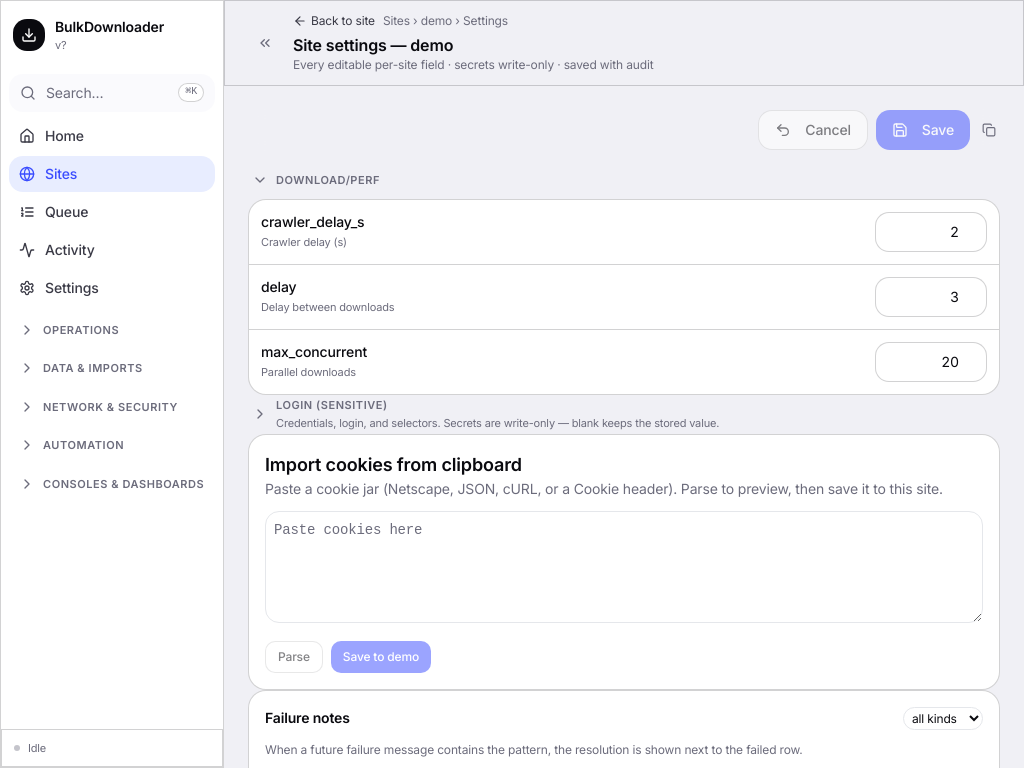
Test case: SiteSettings keeps edits typed during a save (dsf F3) › an edit made while the PUT is in flight survives the save
Replace the text in the number field showing "3" in the row of "Delay between downloads" with "5" at (931, 296), box [875,276,987,316]
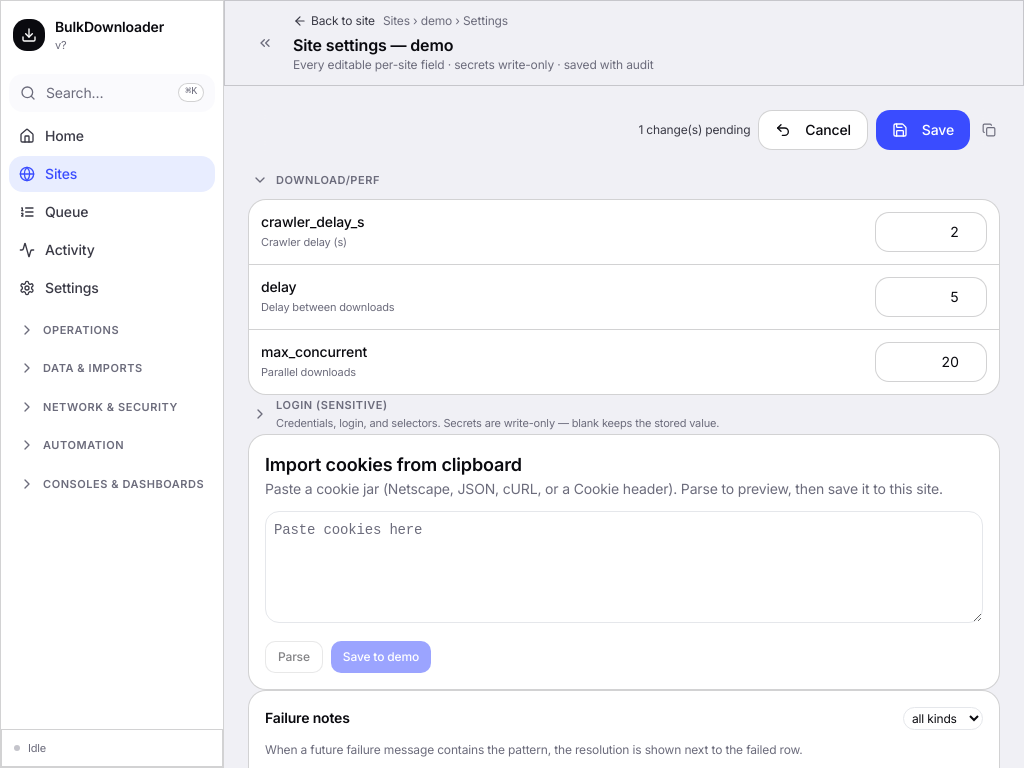
Click the button "Save".
click(923, 130)  # box [876,110,970,150]
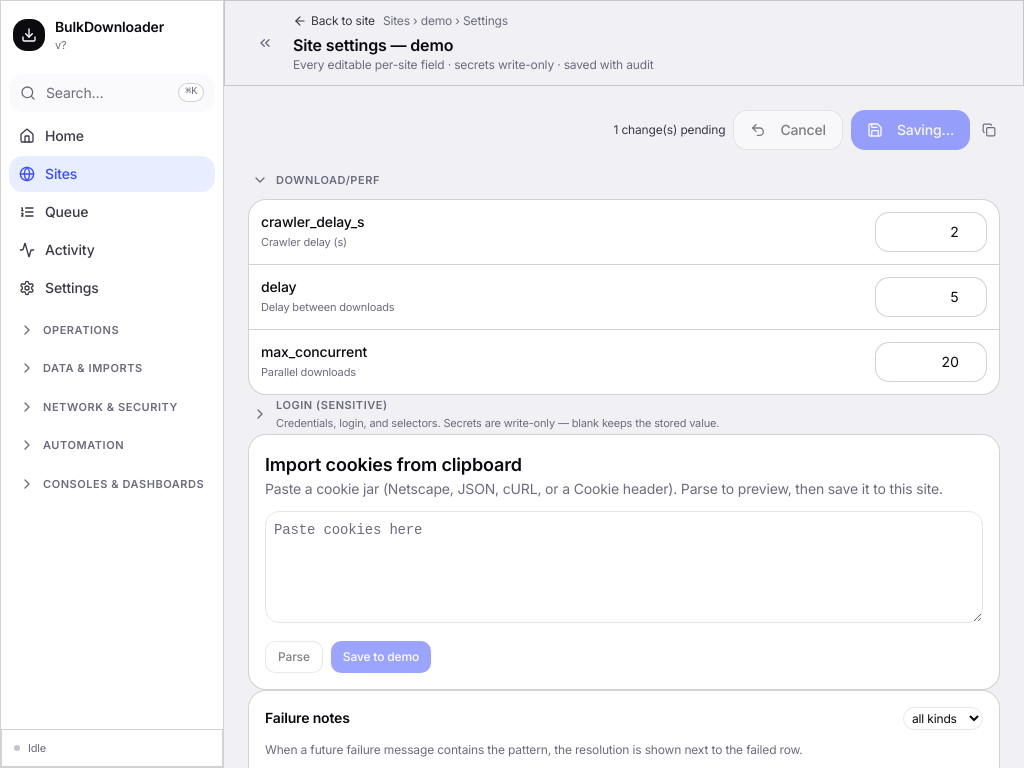
Replace the text in the number field showing "3" in the row of "Delay between downloads" with "7" at (931, 296), box [875,276,987,316]
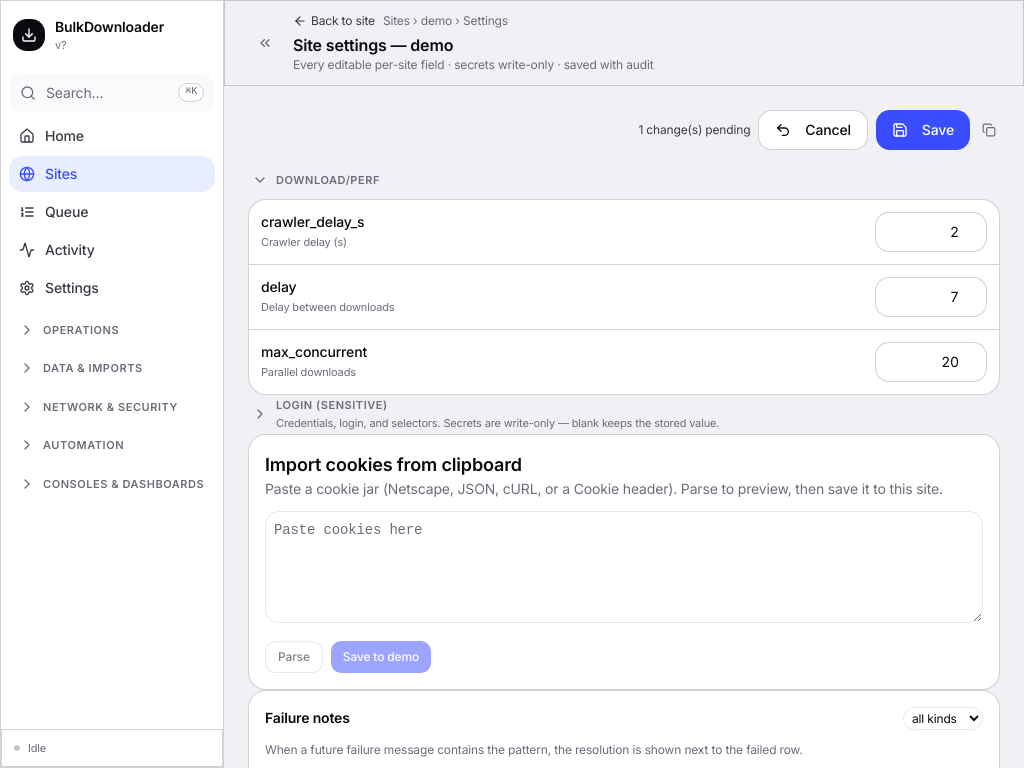
Expected: the text "1 change(s) pending" is shown, [638,122,750,138]
Expected: the button "Save" is enabled, [876,110,970,150]
